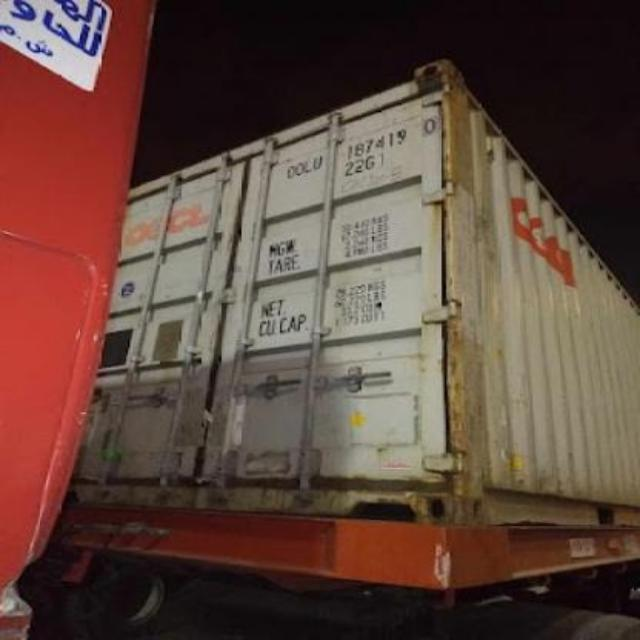0: (418, 114, 438, 136)
1: (342, 139, 356, 157), (384, 128, 396, 148)
4: (376, 128, 386, 152)
6: (356, 131, 364, 155)
7: (364, 132, 374, 152)
9: (396, 120, 406, 146)
L: (300, 146, 312, 178)
O: (282, 156, 294, 182), (292, 157, 304, 181)
U: (312, 150, 324, 170)
